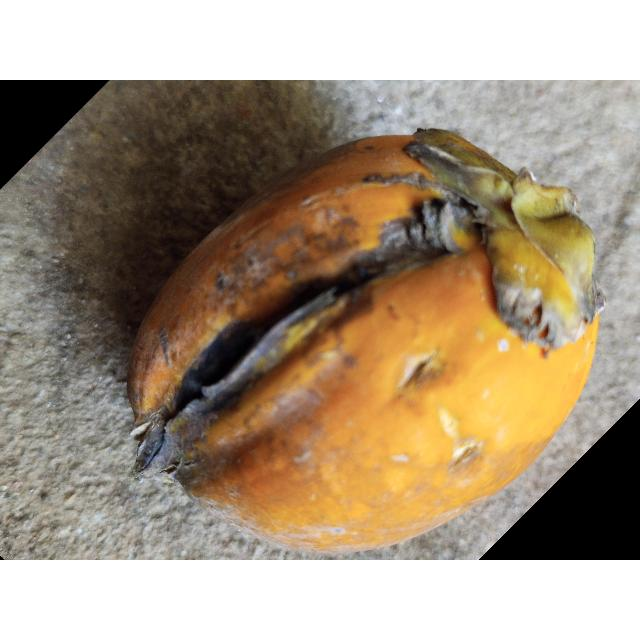damaged: (123, 127, 605, 558)
